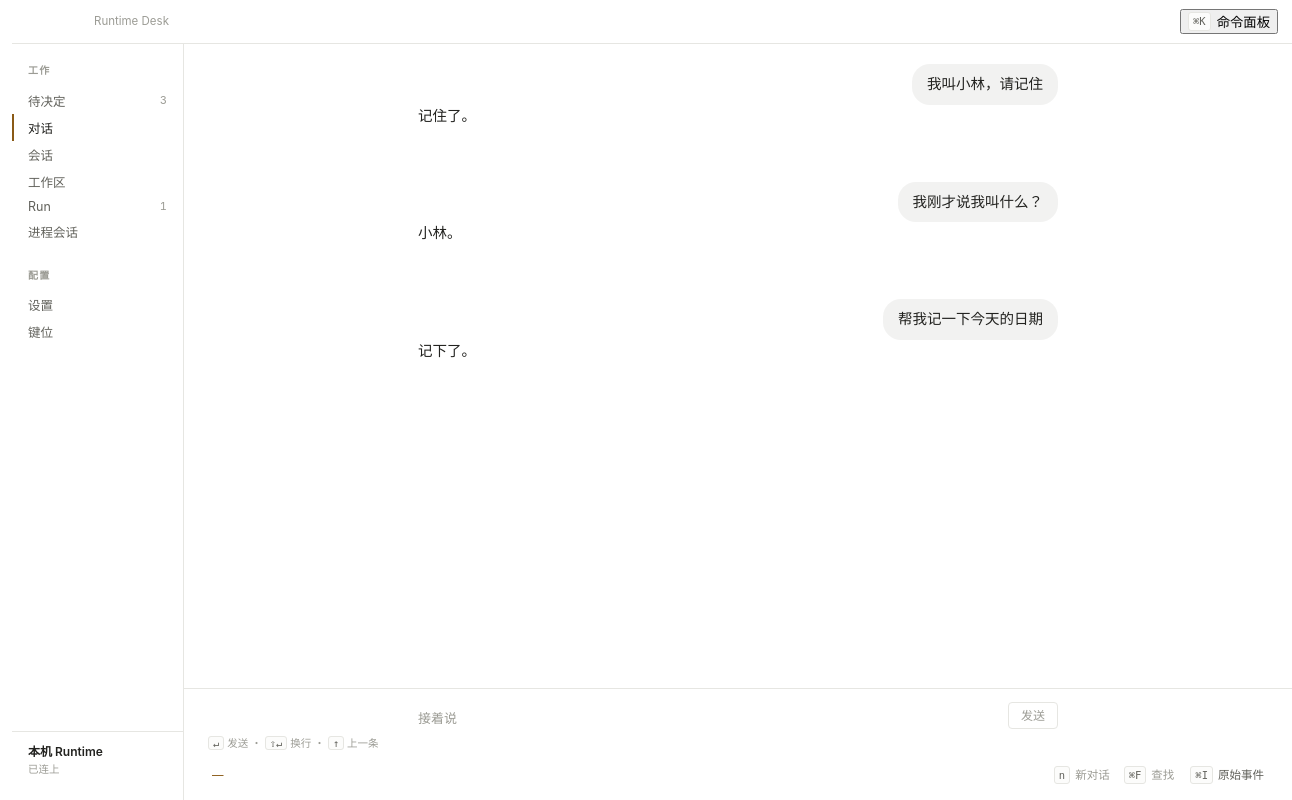
Test: what it says the Run is doing › says nothing about activity once the Run is over
The image size is (1292, 800).
Check: the button "对话" is shown, box [12,114,183,140]
Click the button "Run 1": (98, 206) [12,194,183,218]
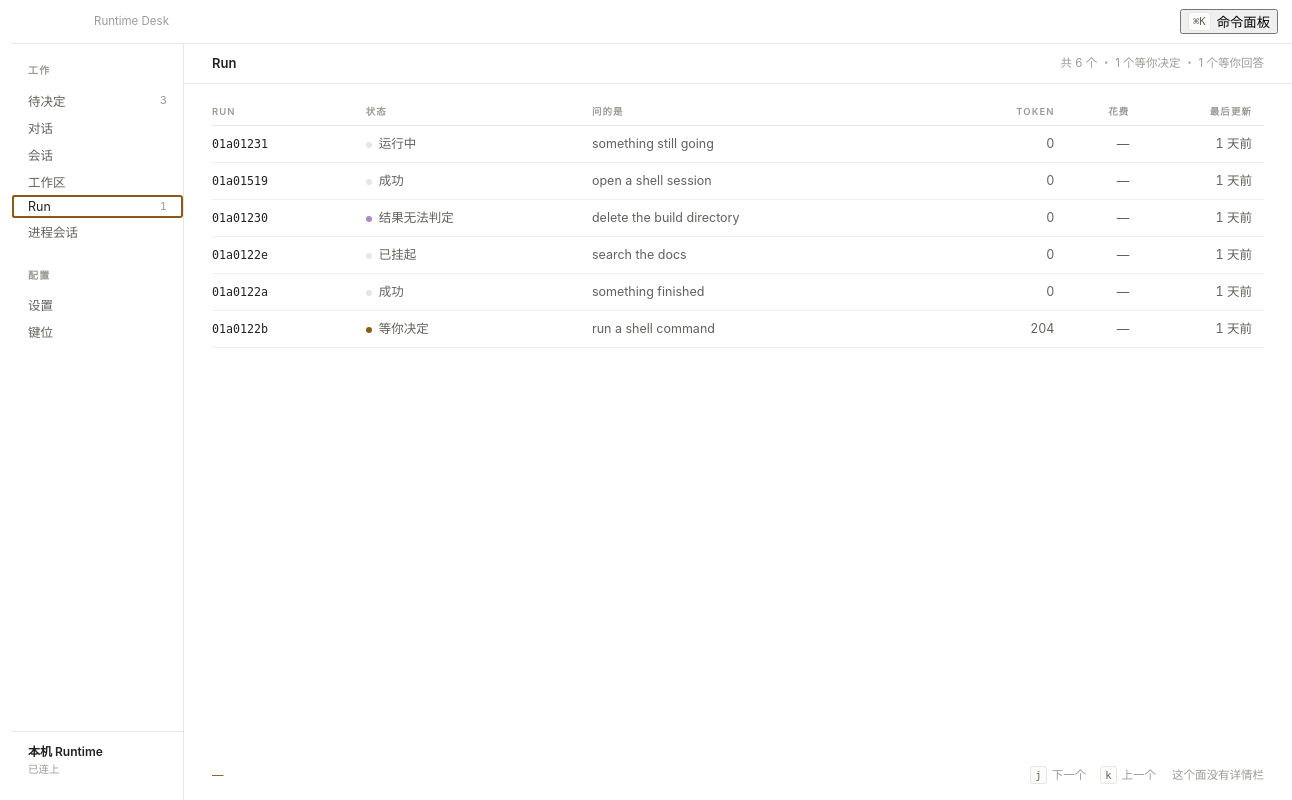
Click the text "something finished": (772, 292) [592,273,953,310]
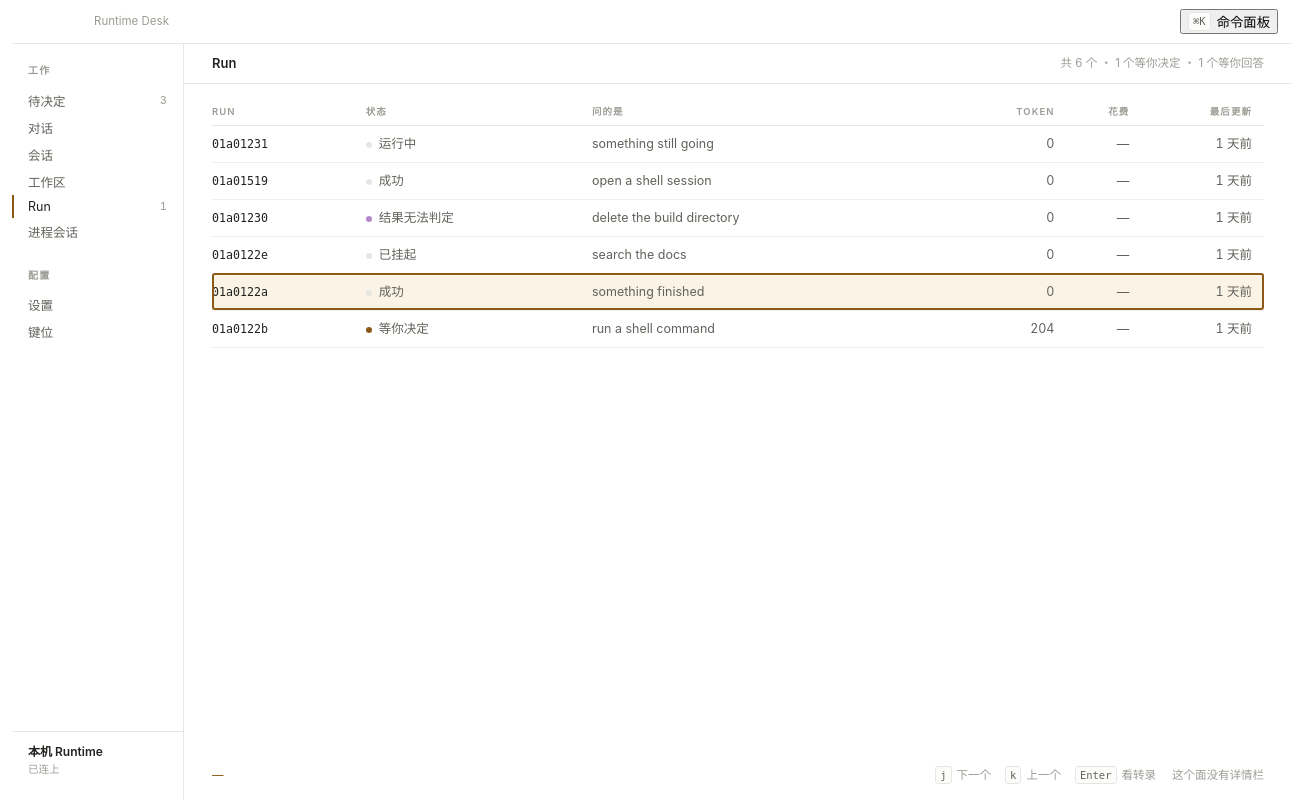
Click the button "对话": (98, 127) [12,114,183,140]
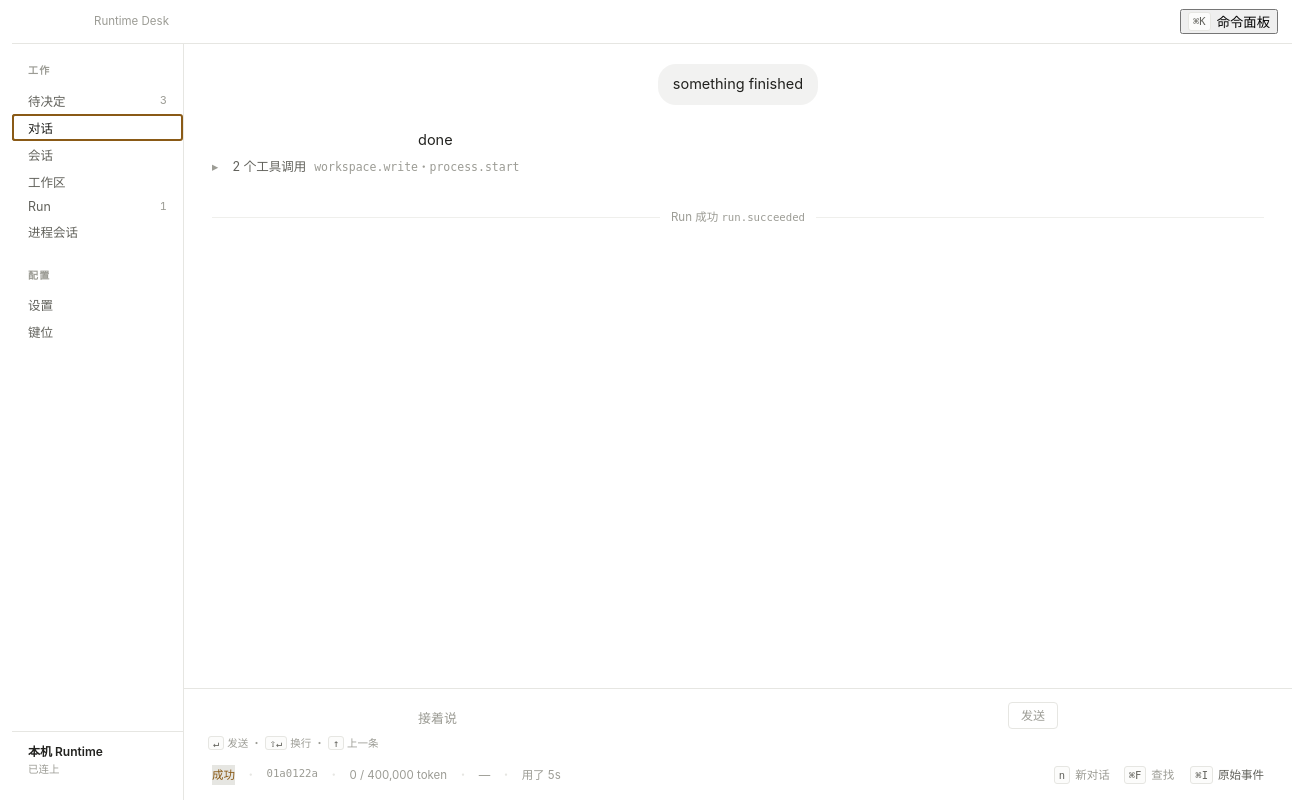
Check: the text "用了 5s" is shown, box [522,765,561,785]
